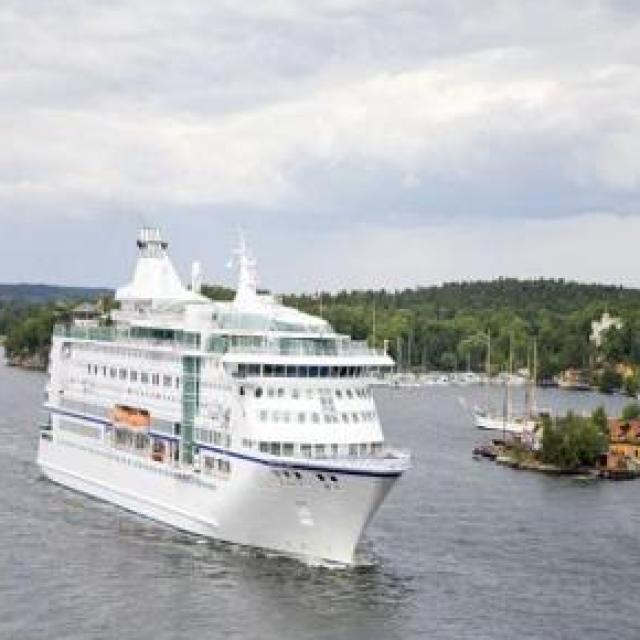passenger ship: (35, 239, 407, 566)
